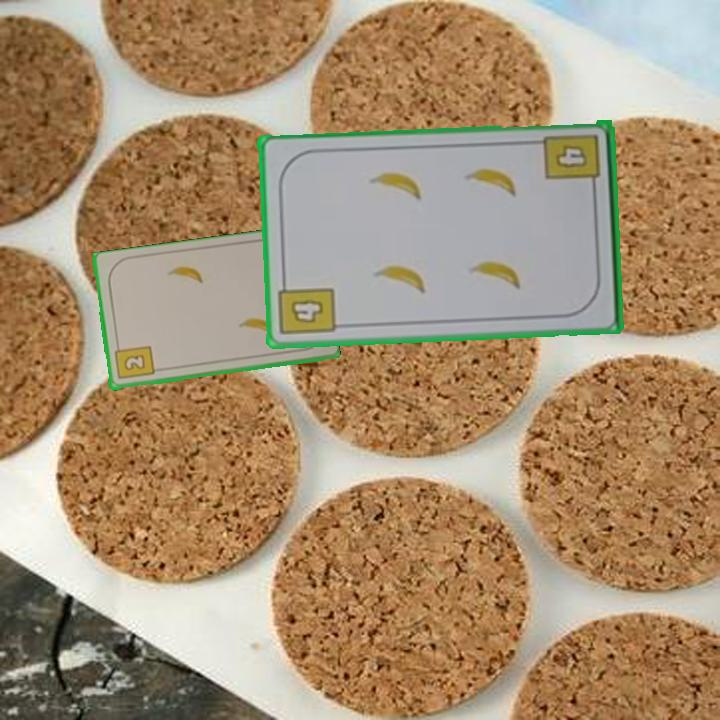2b: (111, 340, 156, 382)
4b: (275, 274, 338, 339), (541, 131, 604, 194)
